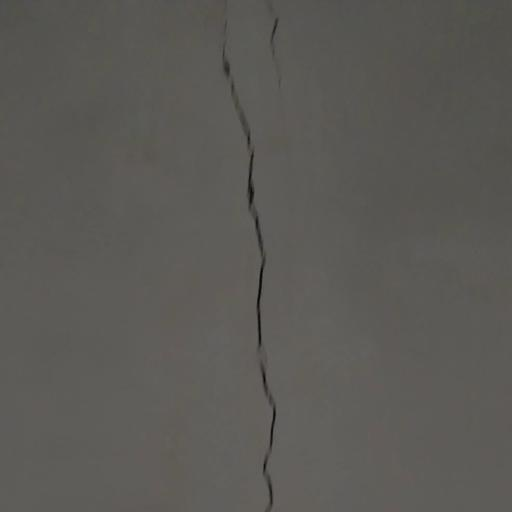minor_crack: (196, 0, 303, 512)
